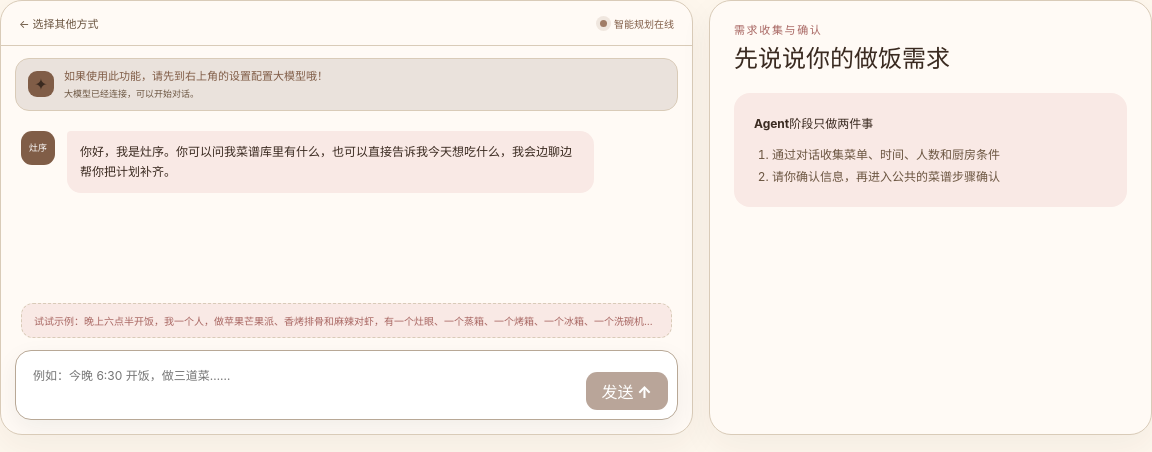
Test: keeps the last valid draft and explains a temporary model failure
The image size is (1152, 452).
Type "我要做清蒸鱼" into the text box named "告诉智能助手你的做饭需求".
click(300, 385); type("我要做清蒸鱼")  # box x1=25 y1=360 x2=576 y2=410
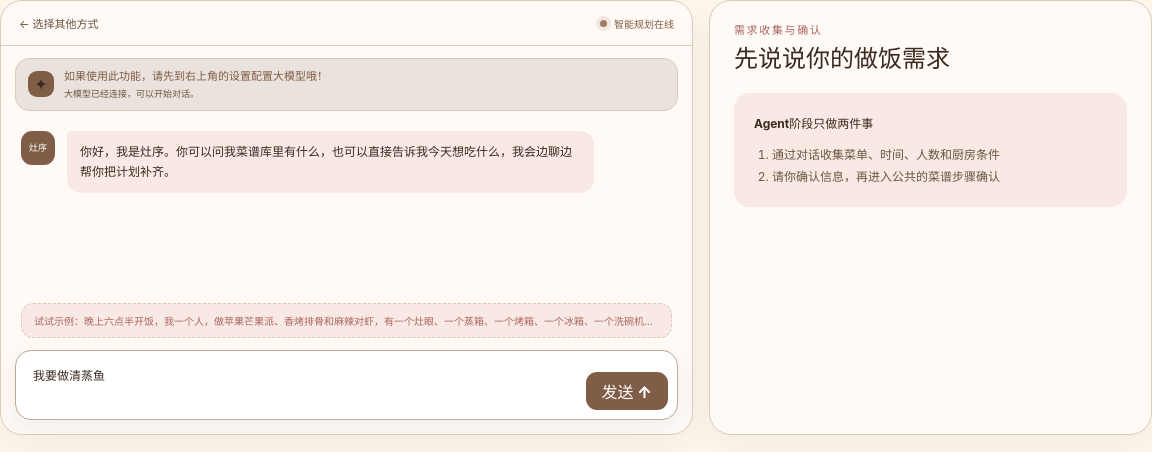
Click the button "发送 ↑".
click(627, 391)  # box x1=586 y1=372 x2=668 y2=410
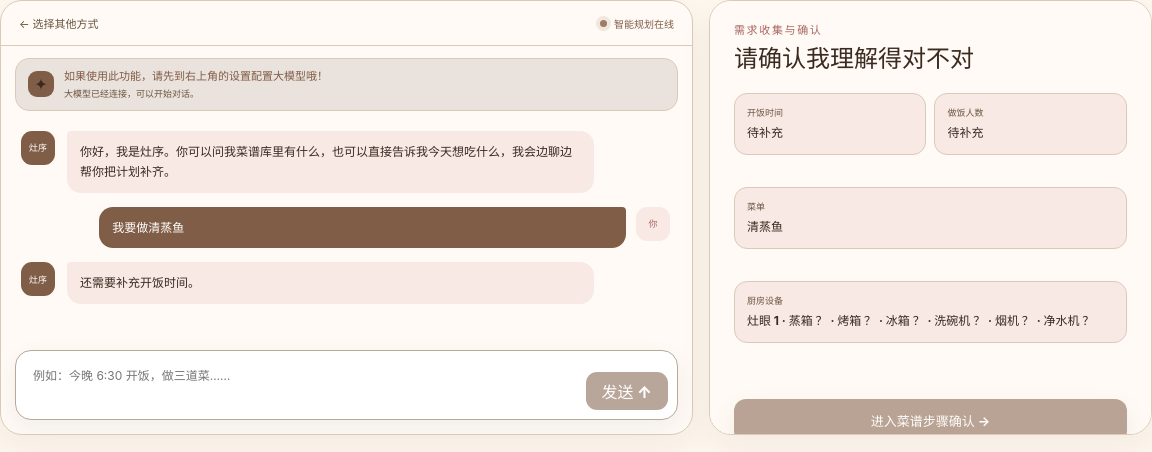
Result: the text "还需要补充开饭时间。" is shown at x1=67 y1=262 x2=594 y2=304
Result: the text "清蒸鱼" is shown at x1=747 y1=219 x2=783 y2=234
Type "晚上六点半开饭" into the text box named "告诉智能助手你的做饭需求".
click(300, 385); type("晚上六点半开饭")  # box x1=25 y1=360 x2=576 y2=410
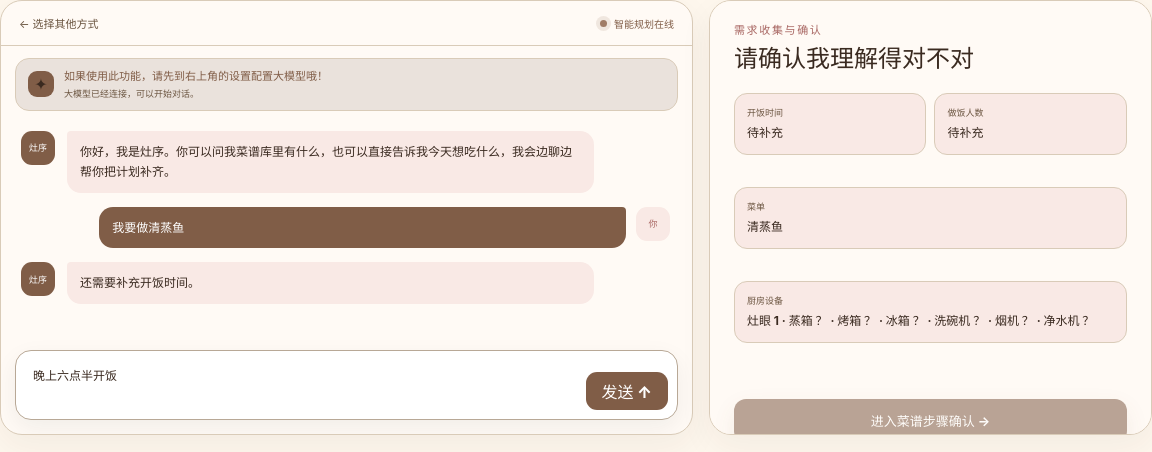
Click the button "发送 ↑".
click(627, 391)  # box x1=586 y1=372 x2=668 y2=410
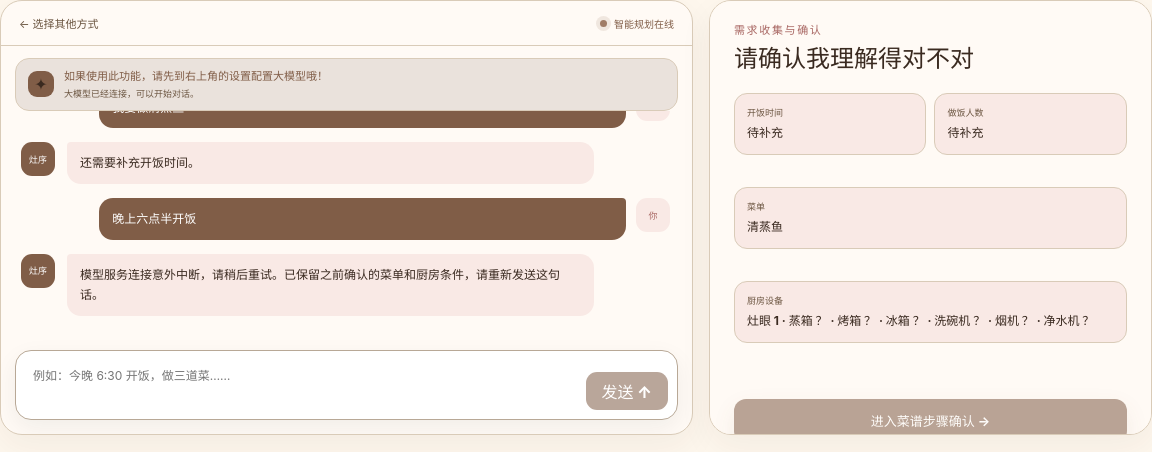
Result: the text "清蒸鱼" is shown at x1=747 y1=219 x2=783 y2=234
Result: the text "模型服务连接意外中断，请稍后重试。已保留之前确认的菜单和厨房条件，请重新发送这句话。" is shown at x1=67 y1=254 x2=594 y2=316
Type "晚上六点半开饭" into the text box named "告诉智能助手你的做饭需求".
click(300, 385); type("晚上六点半开饭")  # box x1=25 y1=360 x2=576 y2=410
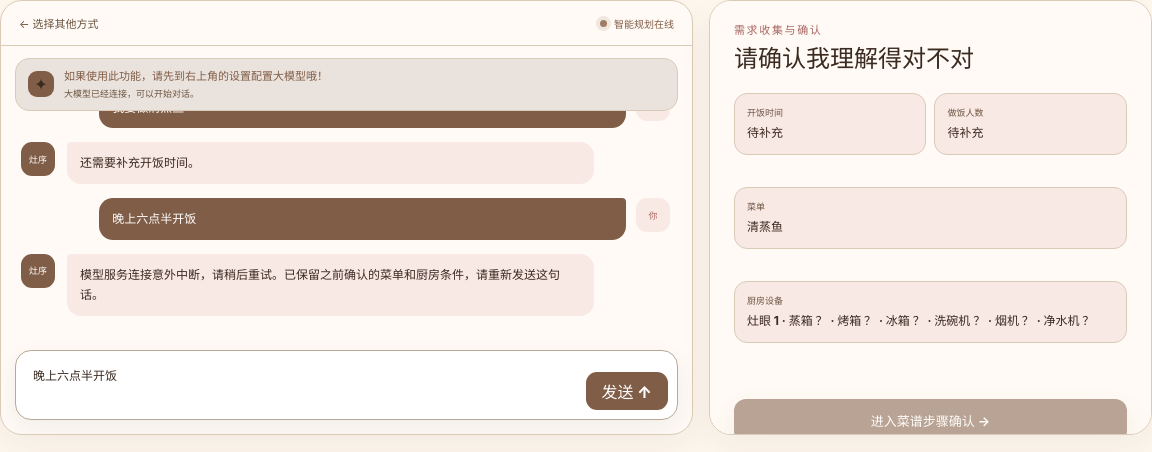
Click the button "发送 ↑".
click(627, 391)  # box x1=586 y1=372 x2=668 y2=410
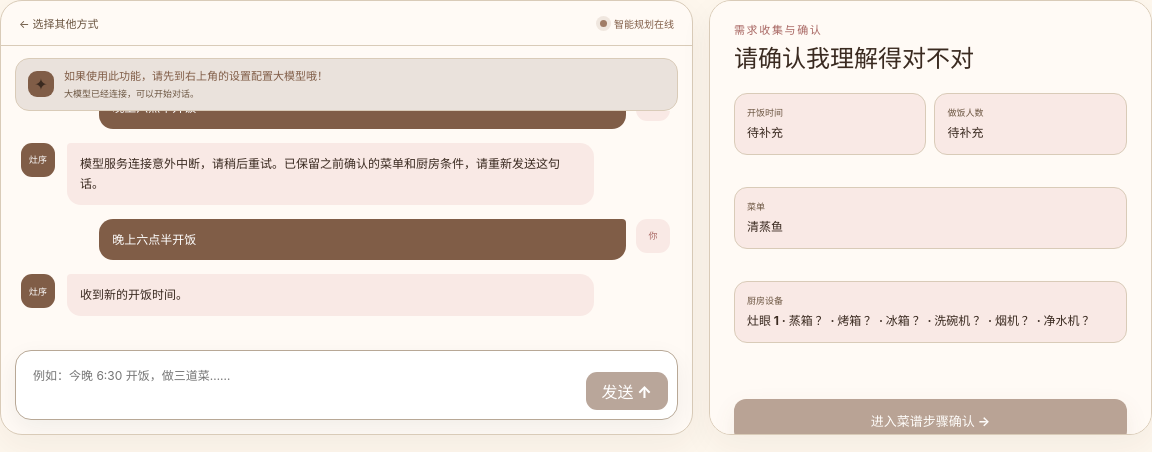
Result: the text "收到新的开饭时间。" is shown at x1=67 y1=274 x2=594 y2=316
